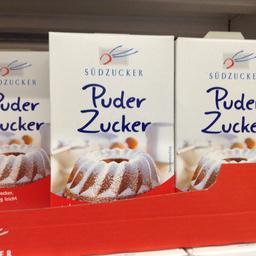sugar: (47, 28, 174, 204), (174, 34, 255, 192), (0, 48, 48, 208)
